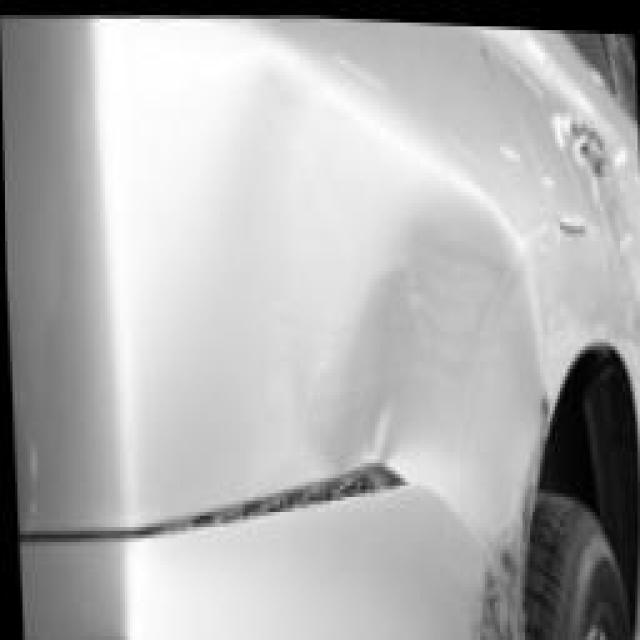Bumper: (15, 467, 533, 640)
Fender: (0, 49, 571, 525)
